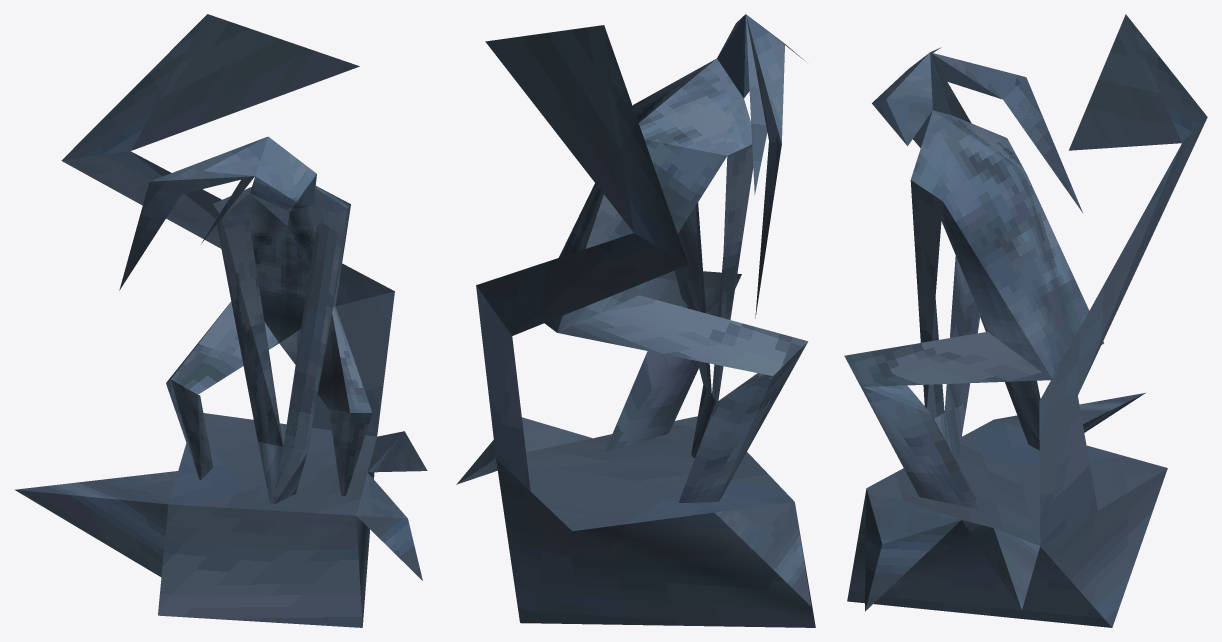
The model's file is frn_all_decorative_lg_s1_l3.fbx.
3 views of the same model, side by side, from view 1: azimuth 30°, elevation 25°; view 2: azimuth 150°, elevation 25°; view 3: azimuth 270°, elevation 25° (orthographic). The views are drawn at different scales.
Parts seen in each view (by area): view 1: mesh_node; view 2: mesh_node; view 3: mesh_node.
Part boxes in pixels (x1,y1,x2,y2): mesh_node: [14, 14, 427, 627]; mesh_node: [456, 14, 815, 627]; mesh_node: [844, 14, 1207, 627].
Bounding box in the file's own units: 1.07 × 1.51 × 0.8686.
1 material, 1 textured.
